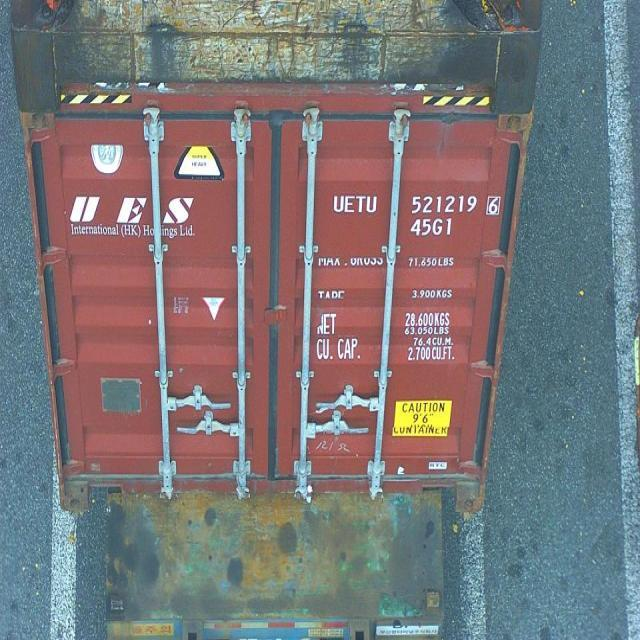ISO: (410, 218, 453, 238)
container_number: (333, 192, 501, 216)
